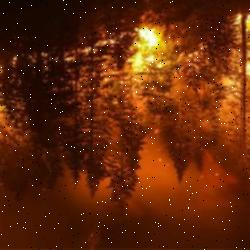fire: (124, 11, 176, 77)
